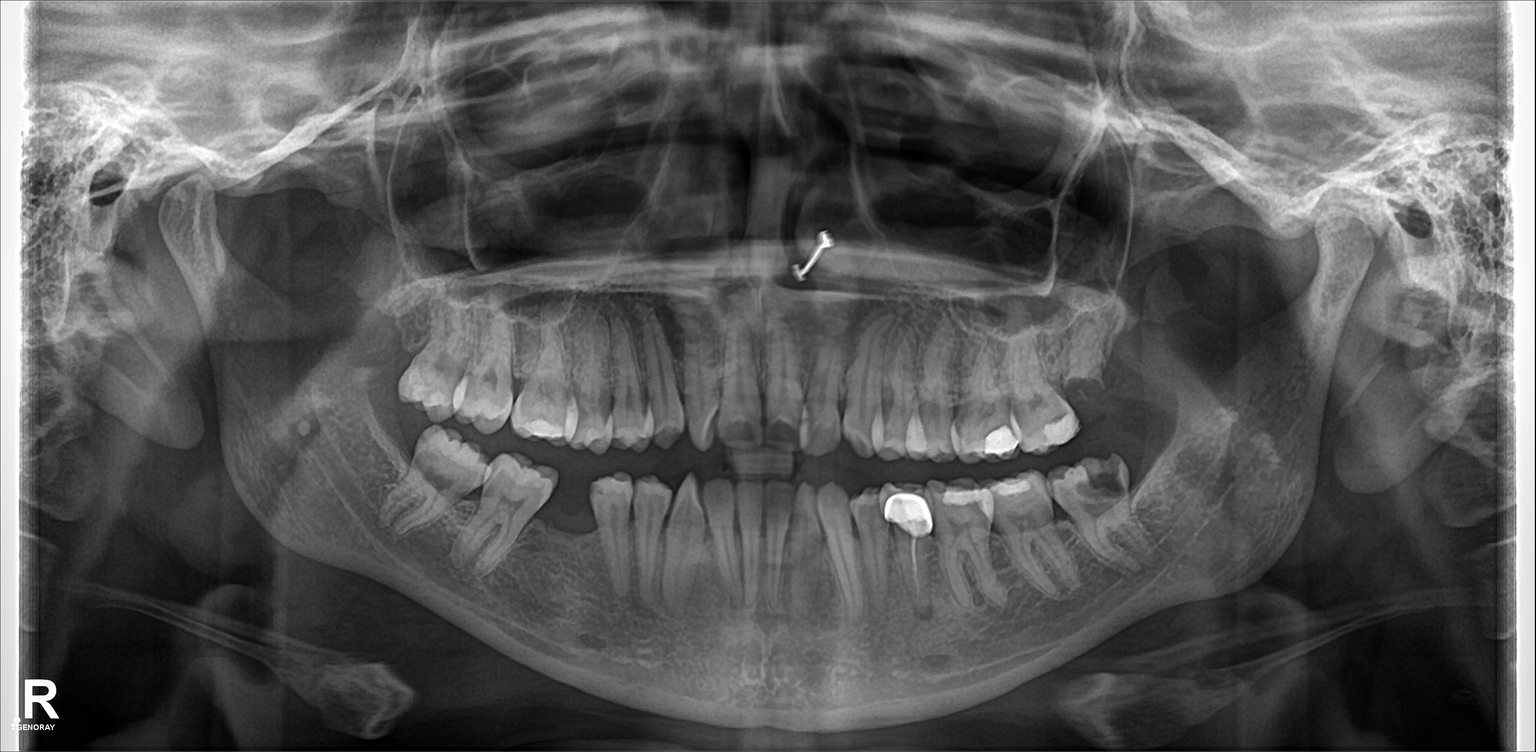Dental Caries: (1073, 471, 1123, 509), (760, 411, 803, 453), (713, 417, 752, 447)
Endodontically Treated Tooth: (879, 475, 937, 621)
Missing Tooth: (359, 289, 417, 405), (350, 424, 402, 514), (1123, 309, 1164, 423), (549, 478, 588, 585)
Retained Root: (1065, 326, 1110, 422)
